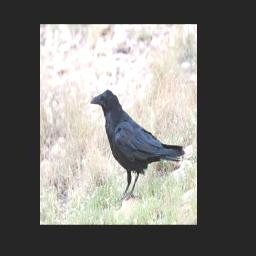Crow: (89, 88, 186, 205)
